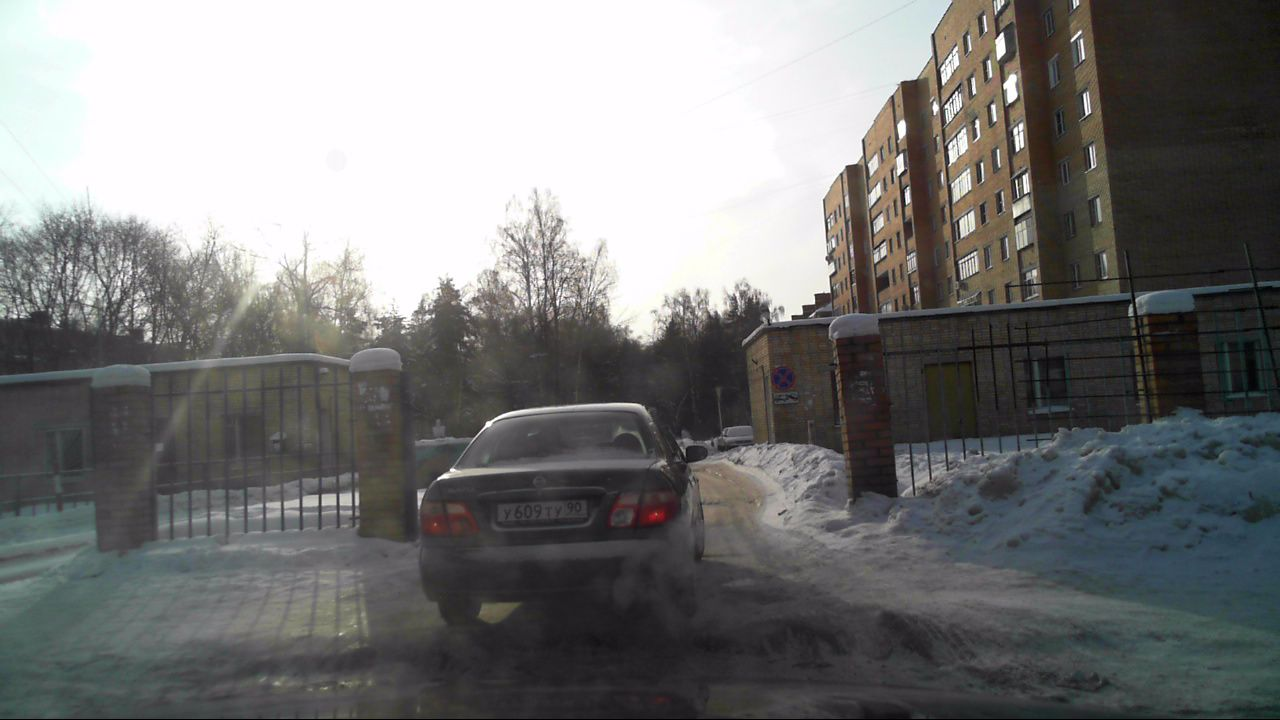No Parking: (772, 366, 796, 390)
